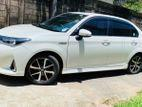car: (0, 13, 142, 83)
